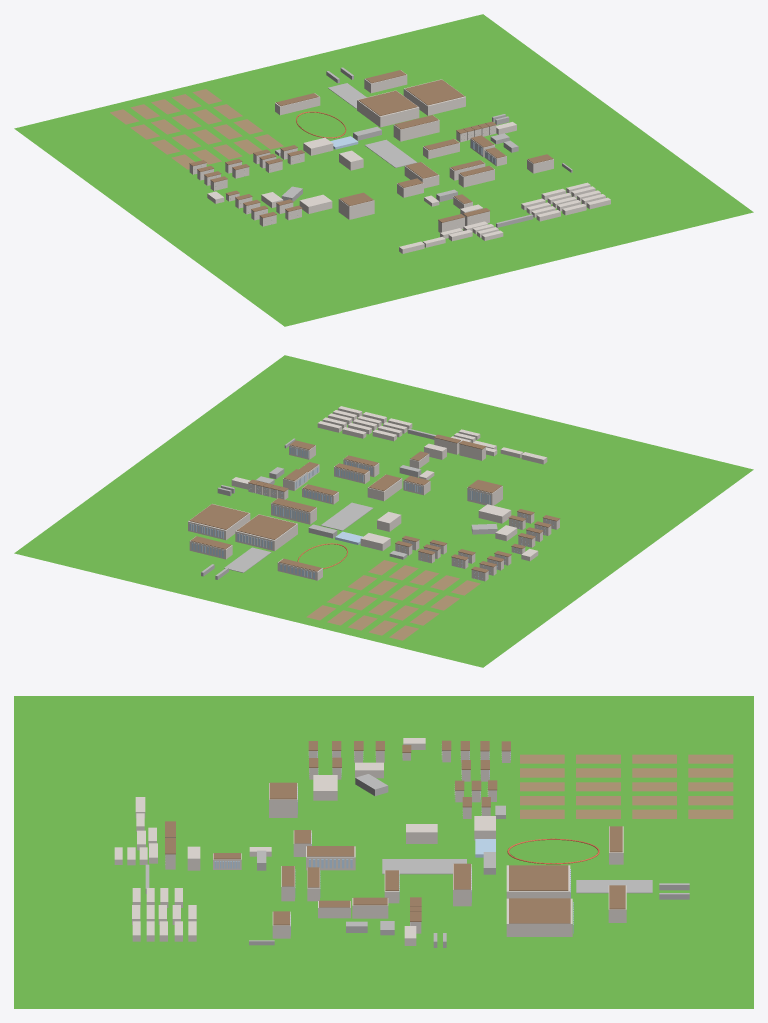
File: your-campus.glb
The picture shows the model from 3 angles, top to bottom: view 1: azimuth 30°, elevation 25°; view 2: azimuth 150°, elevation 25°; view 3: azimuth 270°, elevation 25°; orthographic projection. The views are drawn at different scales.
Parts seen in each view (by area): view 1: Ground, 田径场_grass, 食品学院、葡萄酒学院_roof, 理科楼_roof, 理科楼_main, 停车场1, 食品学院、葡萄酒学院_main, 8号教学楼_main, 新图书馆_main; view 2: Ground, 食品学院、葡萄酒学院_roof, 理科楼_roof, 田径场_grass, 理科楼_main, 停车场1, 食品学院、葡萄酒学院_main, 停车场2; view 3: Ground, 田径场_grass, 食品学院、葡萄酒学院_roof, 理科楼_roof, 停车场1, 食品学院、葡萄酒学院_main, 停车场2, 理科楼_main, 北绣山活动中心, 篮球馆, 动物科技学院_main, 新图书馆_main (+2 smaller).
Boxes of the visible parts, box(x1,y1,x2,y2) form: Ground: box(14, 14, 753, 326); 田径场_grass: box(297, 112, 344, 137); 食品学院、葡萄酒学院_roof: box(405, 79, 464, 105); 理科楼_roof: box(358, 90, 417, 116); 理科楼_main: box(357, 90, 419, 127); 停车场1: box(364, 139, 417, 167); 食品学院、葡萄酒学院_main: box(403, 79, 465, 115); 8号教学楼_main: box(393, 115, 439, 141); 新图书馆_main: box(338, 198, 374, 219); Ground: box(14, 355, 753, 667); 食品学院、葡萄酒学院_roof: box(189, 504, 248, 529); 理科楼_roof: box(237, 514, 295, 539); 田径场_grass: box(299, 544, 346, 568); 理科楼_main: box(235, 514, 297, 551); 停车场1: box(321, 502, 373, 530); 食品学院、葡萄酒学院_main: box(188, 504, 250, 540); 停车场2: box(224, 547, 271, 572); Ground: box(14, 696, 753, 1008); 田径场_grass: box(510, 840, 596, 863); 食品学院、葡萄酒学院_roof: box(509, 898, 570, 923); 理科楼_roof: box(509, 865, 568, 890); 停车场1: box(382, 859, 466, 874); 食品学院、葡萄酒学院_main: box(506, 898, 572, 936); 停车场2: box(576, 880, 652, 893); 理科楼_main: box(506, 865, 570, 898); 北绣山活动中心: box(313, 775, 337, 800); 篮球馆: box(406, 824, 437, 843); 动物科技学院_main: box(306, 846, 355, 870); 新图书馆_main: box(269, 783, 297, 817).
Bounding box in the file's own units: 1025 × 31.16 × 1025.
